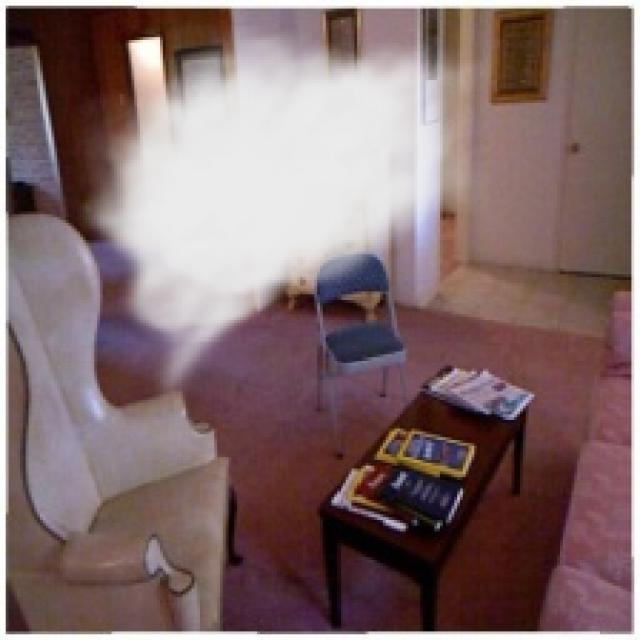Smoke: (72, 22, 494, 412)
